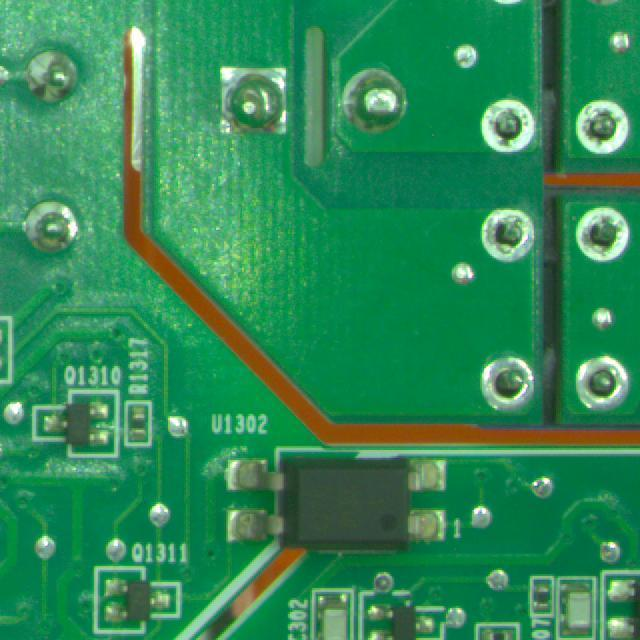Insufficient solder: (572, 346, 635, 416), (478, 199, 539, 267), (473, 351, 541, 411), (575, 203, 632, 266), (479, 95, 538, 155), (575, 97, 630, 161)
